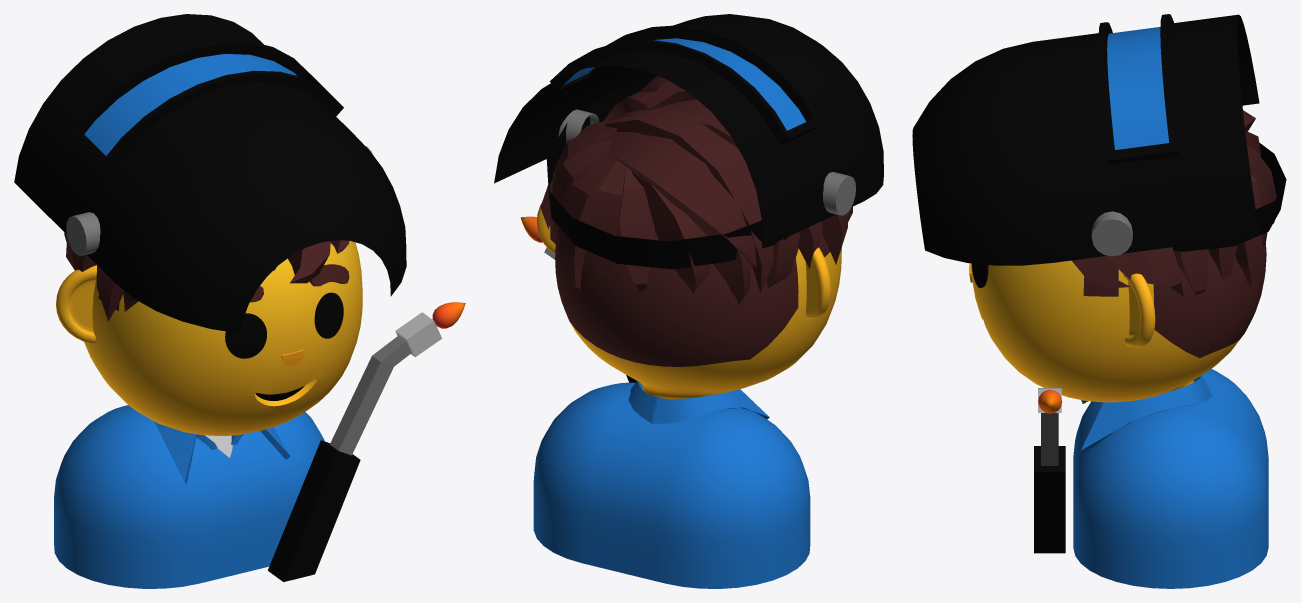
The model's file is factory_worker.fbx.
The picture shows the model from 3 angles, left to right: view 1: azimuth 30°, elevation 25°; view 2: azimuth 150°, elevation 25°; view 3: azimuth 270°, elevation 25°; orthographic projection.
Visible parts, largest first — view 1: Sphere.062, Sphere.061, Roundcube.104, Cube.1279, Cube.1266, Circle.636, Cylinder.091, Plane.050, Circle.641, Circle.638, Sphere.063; view 2: Sphere.061, Sphere.062, Cube.1266, Roundcube.104, Circle.639, Plane.050, Circle.641, Cylinder.091; view 3: Sphere.062, Sphere.061, Roundcube.104, Cube.1266, Cube.1279, Plane.050, Circle.639, Cylinder.091, Circle.641.
Boxes of the visible parts, x1,y1,x2,y2 form: Sphere.062: (14, 14, 406, 333); Sphere.061: (54, 405, 324, 588); Roundcube.104: (84, 241, 362, 436); Cube.1279: (268, 312, 441, 581); Cube.1266: (64, 232, 349, 321); Circle.636: (225, 292, 343, 358); Cylinder.091: (56, 265, 96, 343); Plane.050: (155, 422, 290, 483); Circle.641: (66, 146, 372, 255); Circle.638: (250, 264, 349, 302); Sphere.063: (432, 302, 465, 328); Sphere.061: (533, 382, 810, 588); Sphere.062: (494, 14, 883, 248); Cube.1266: (540, 76, 852, 304); Roundcube.104: (555, 230, 841, 399); Circle.639: (546, 75, 788, 269); Plane.050: (628, 381, 769, 424); Circle.641: (558, 109, 855, 215); Cylinder.091: (536, 203, 830, 318); Sphere.062: (912, 14, 1259, 265); Sphere.061: (1073, 369, 1268, 588); Roundcube.104: (970, 243, 1266, 402); Cube.1266: (1071, 110, 1276, 296); Cube.1279: (1034, 388, 1065, 553); Plane.050: (1080, 375, 1212, 452); Circle.639: (1172, 143, 1286, 251); Cylinder.091: (1123, 273, 1155, 347); Circle.641: (1091, 211, 1132, 256).
Size of the model in its own units: 204 by 269 by 183.
2 materials, 2 textured.
